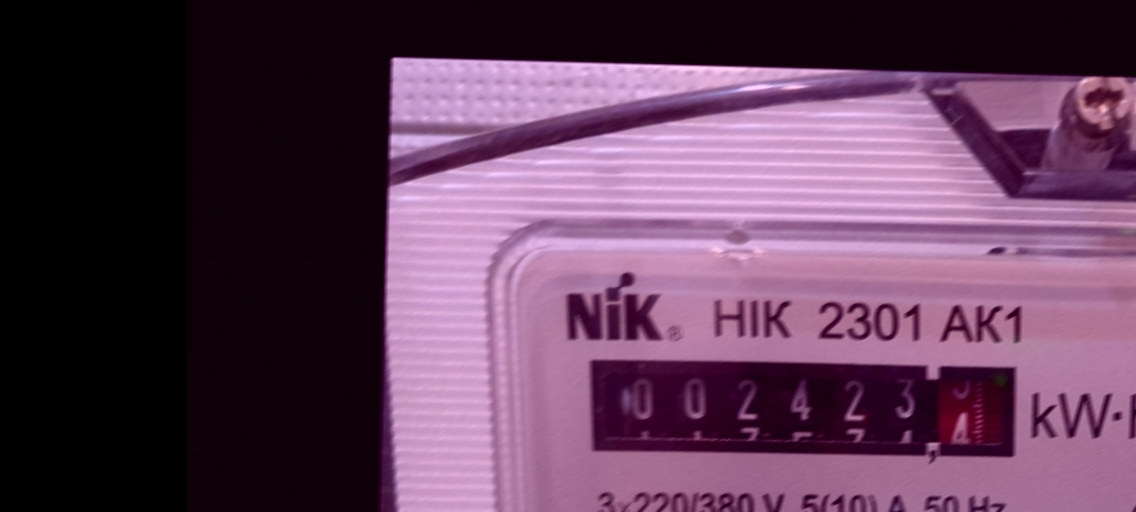0: (629, 372, 657, 421), (682, 373, 709, 419)
2: (734, 373, 761, 420), (842, 375, 866, 421)
3: (893, 373, 918, 419), (951, 375, 973, 398)
4: (789, 374, 812, 420), (948, 406, 974, 444)
screen: (577, 342, 1030, 473)
